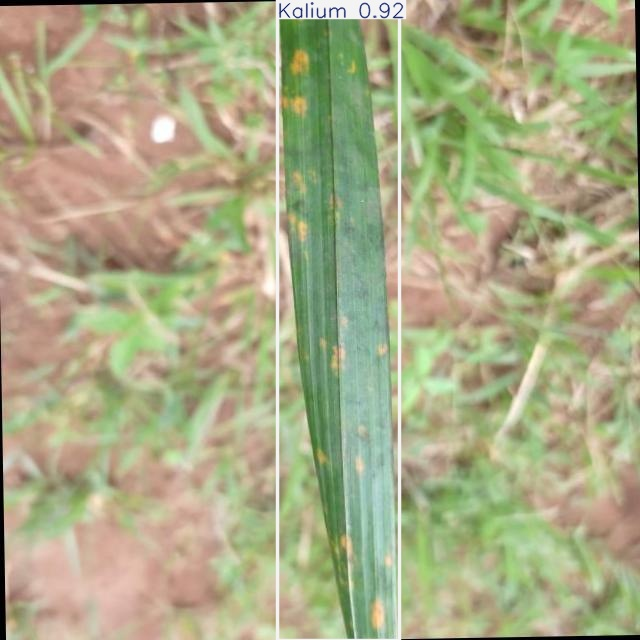Kalium: (277, 0, 400, 640)
